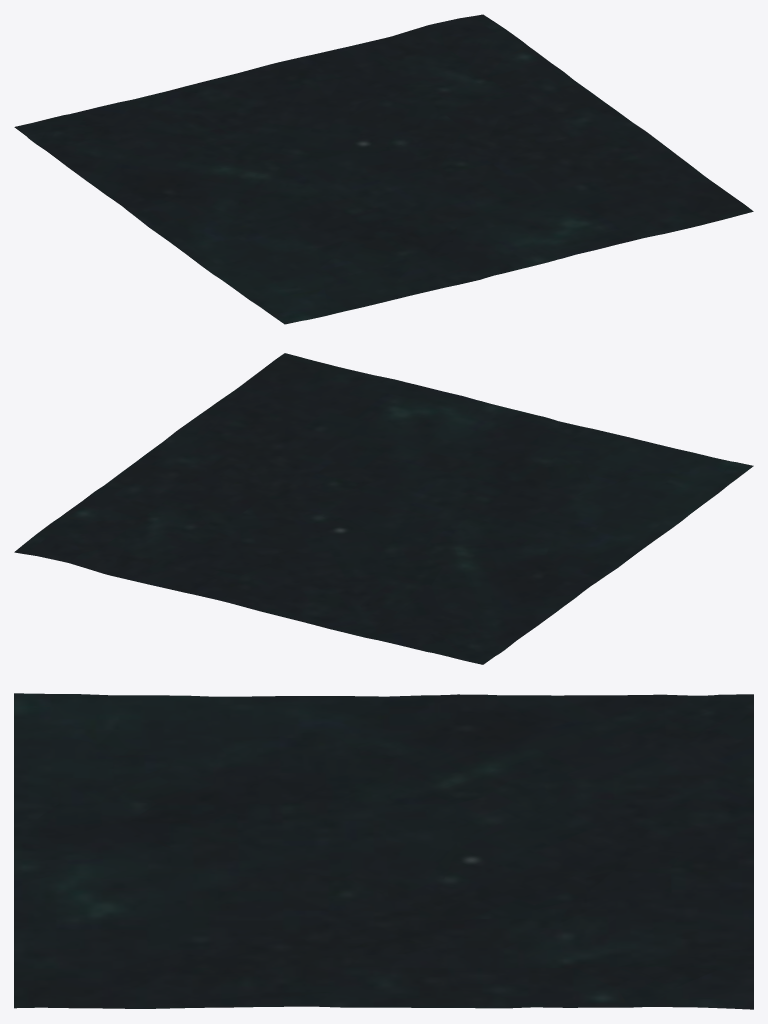
The picture shows the model from 3 angles, top to bottom: view 1: azimuth 30°, elevation 25°; view 2: azimuth 150°, elevation 25°; view 3: azimuth 270°, elevation 25°; orthographic projection. The views are drawn at different scales.
Bounding box in the file's own units: 52.22 × 0.3978 × 52.22.
2 materials, 2 textured.
